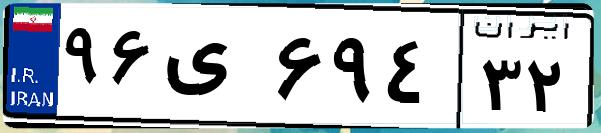2: (525, 38, 570, 115)
3: (475, 38, 525, 113)
4: (385, 28, 445, 110)
6: (270, 28, 330, 110), (110, 28, 158, 98)
9: (330, 28, 385, 110), (57, 26, 110, 100)
ی: (158, 20, 270, 120)
